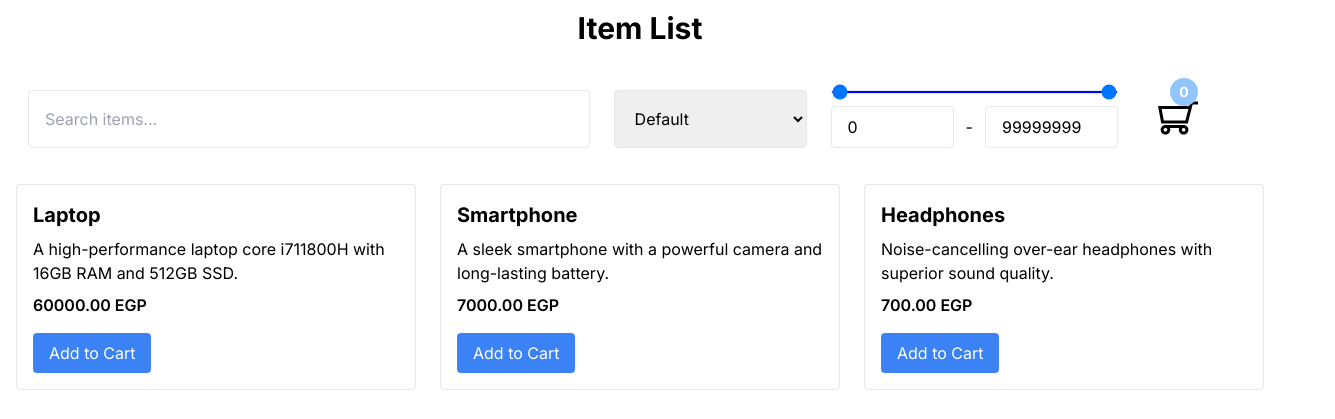
Test: removes items from the cart
The image size is (1335, 419).
Click the button "Add to Cart" below "60000.00 EGP". click: (92, 353)
box: [33,333,152,373]
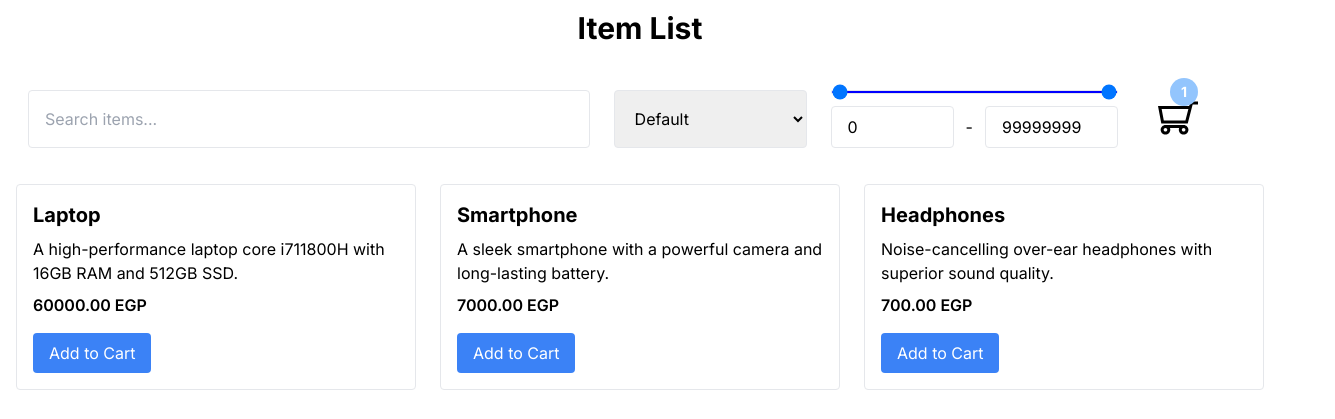
Click the button "Add to Cart" below "60000.00 EGP". click: (92, 353)
box: [33,333,152,373]
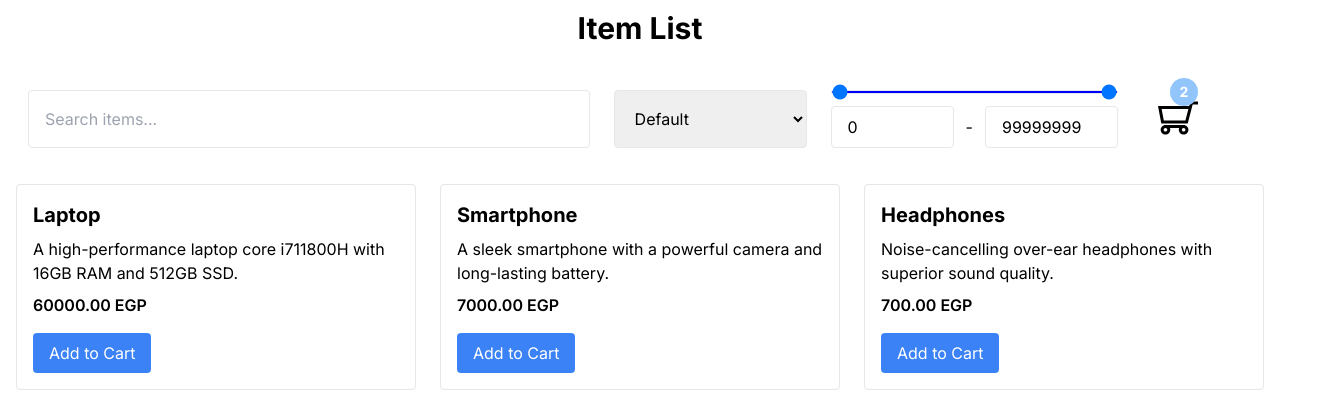
Click the button "2 Cart". click: (1197, 118)
box: [1142,90,1252,146]
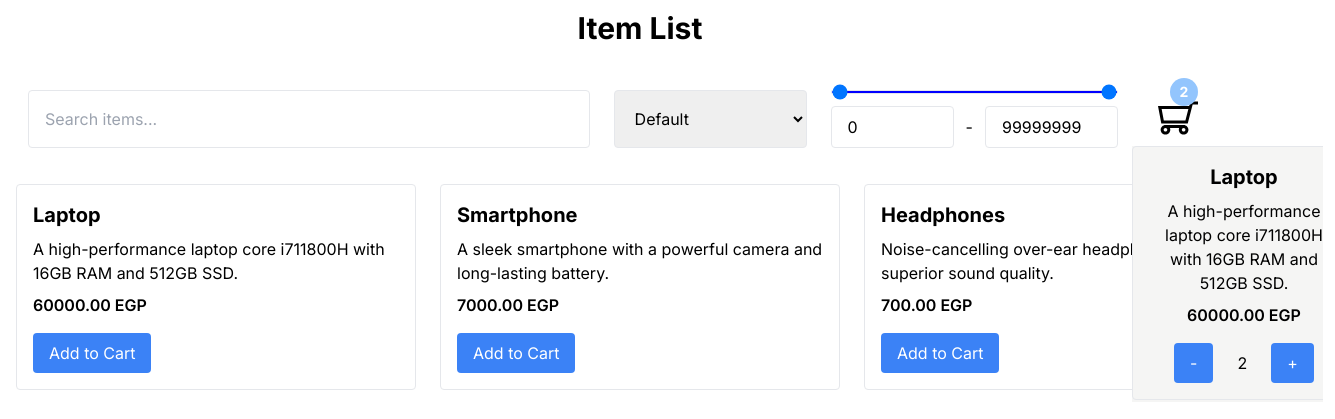
Now the 1st heading with test id "productName" reads "Laptop", box [1210,165,1278,189]
Click the button "-". click: (1194, 363)
box: [1174,343,1214,383]
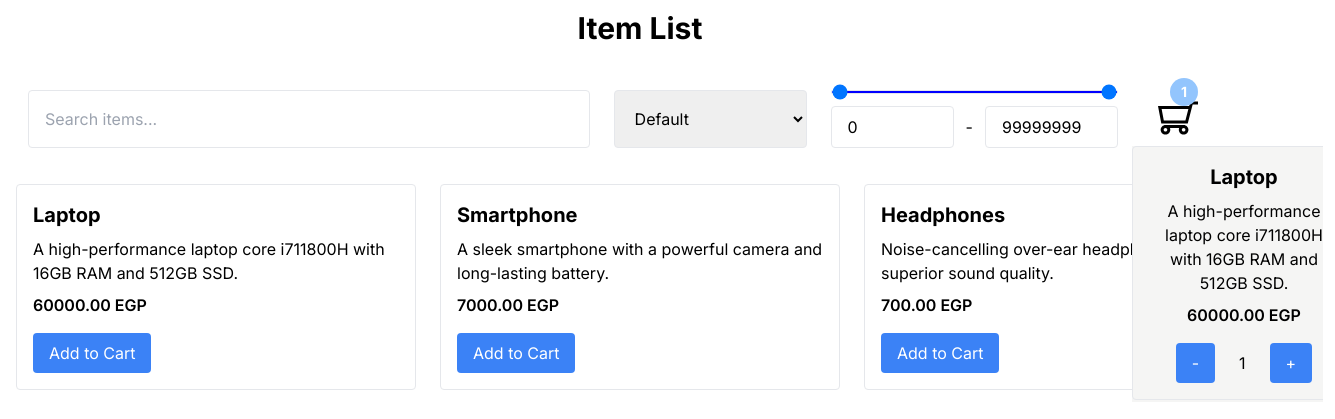
Click the button "-". click: (1195, 363)
box: [1176,343,1215,383]
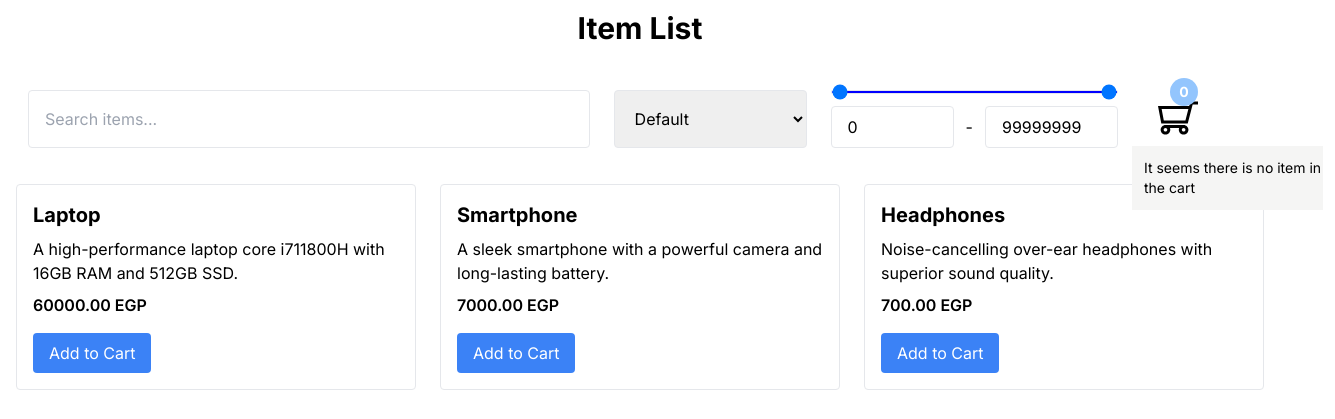
Now the text "It seems there is no item in the cart" is shown, box [1144,159,1321,196]
